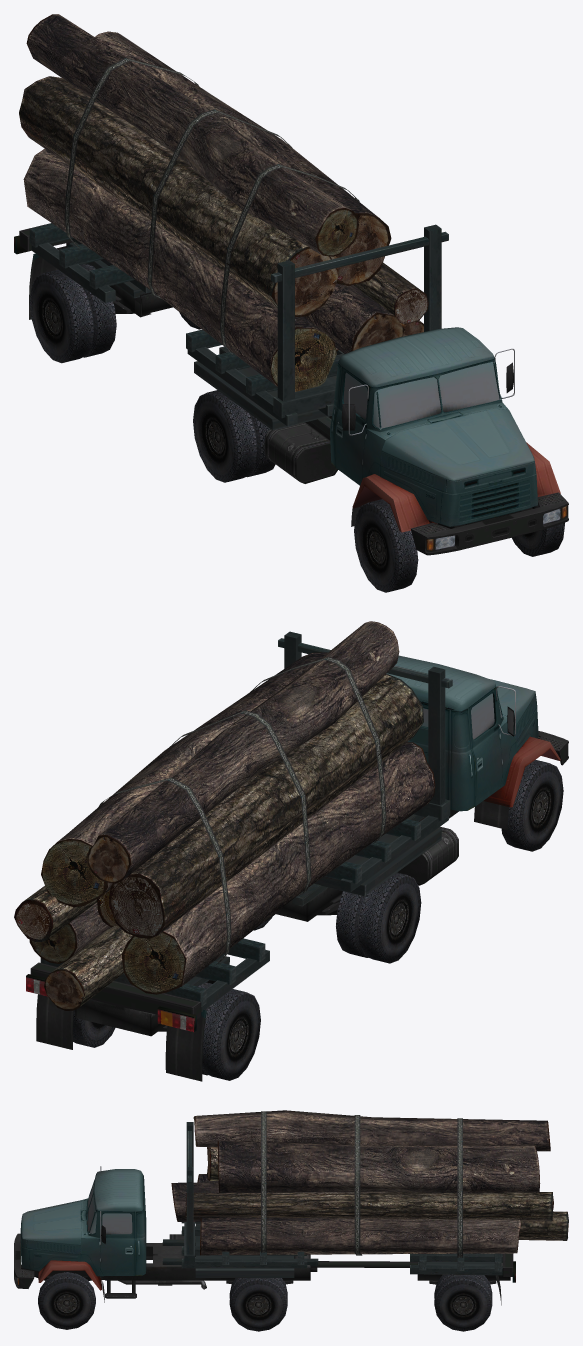
Rendered from Lorry.FBX.
The picture shows the model from 3 angles, top to bottom: view 1: azimuth 30°, elevation 25°; view 2: azimuth 150°, elevation 25°; view 3: azimuth 270°, elevation 25°; orthographic projection. The views are drawn at different scales.
Parts seen in each view (by area): view 1: Lorry; view 2: Lorry; view 3: Lorry.
Boxes of the visible parts, left/top/right/bottom form: Lorry: left=14, top=14, right=568, bottom=592; Lorry: left=14, top=621, right=568, bottom=1081; Lorry: left=14, top=1110, right=568, bottom=1331.
Size of the model in its own units: 15.22 by 23.47 by 64.01.
